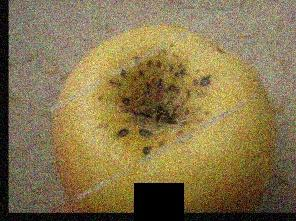rotten apple: (50, 24, 273, 212)
